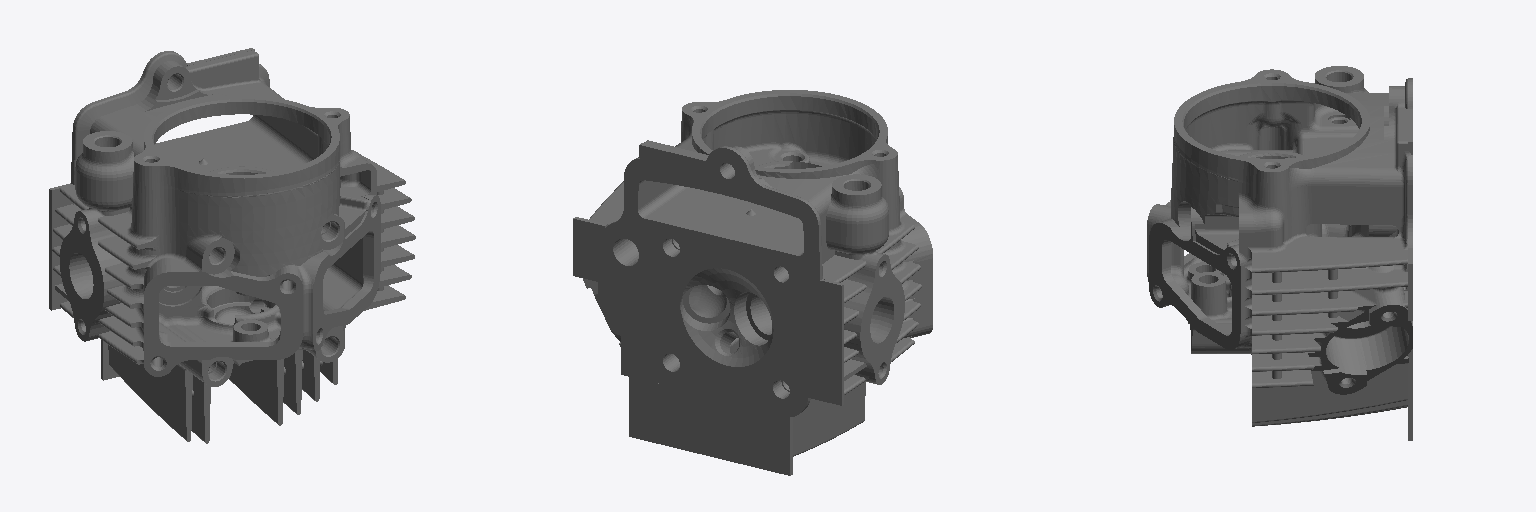
Rendered from Motor.obj.
The picture shows the model from 3 angles: view 1: azimuth 30°, elevation 25°; view 2: azimuth 150°, elevation 25°; view 3: azimuth 270°, elevation 25°; orthographic projection.
Parts seen in each view (by area): view 1: Object.1; view 2: Object.1; view 3: Object.1.
Part boxes in pixels (bbox=[...]): Object.1: bbox=[49, 48, 415, 443]; Object.1: bbox=[573, 90, 932, 475]; Object.1: bbox=[1147, 66, 1412, 440].
Bounding box in the file's own units: 101997 × 107933 × 80018.